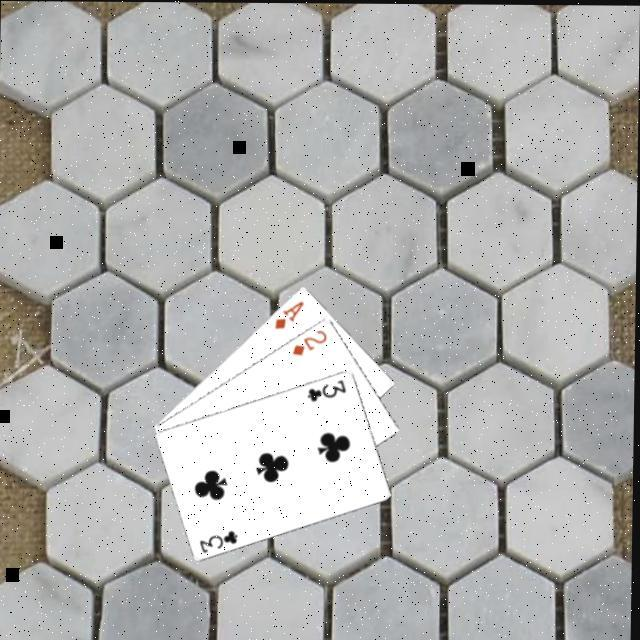2D: (288, 324, 328, 356)
3C: (196, 524, 241, 554), (303, 374, 348, 402)
AD: (270, 295, 306, 329)
